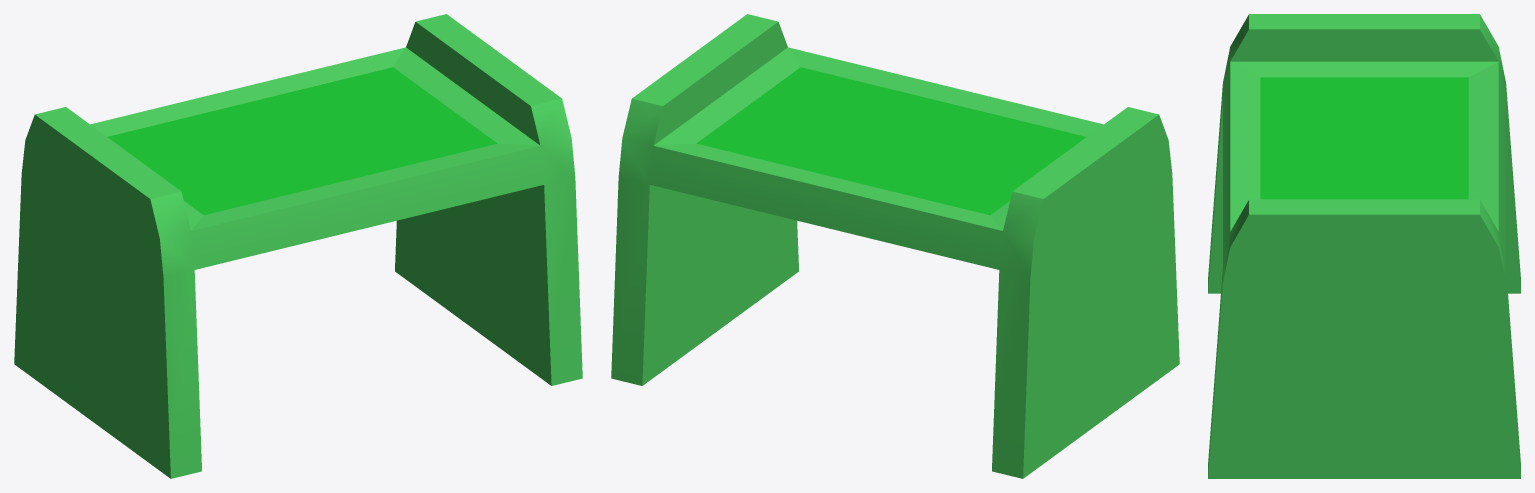
The model's file is Banquito.fbx.
The picture shows the model from 3 angles, left to right: view 1: azimuth 30°, elevation 25°; view 2: azimuth 150°, elevation 25°; view 3: azimuth 270°, elevation 25°; orthographic projection.
Parts seen in each view (by area): view 1: Banquito; view 2: Banquito; view 3: Banquito.
Boxes of the visible parts, x1,y1,x2,y2 form: Banquito: (14, 14, 582, 478); Banquito: (611, 14, 1179, 478); Banquito: (1208, 14, 1520, 478).
Bounding box in the file's own units: 66 × 40.56 × 43.5.
